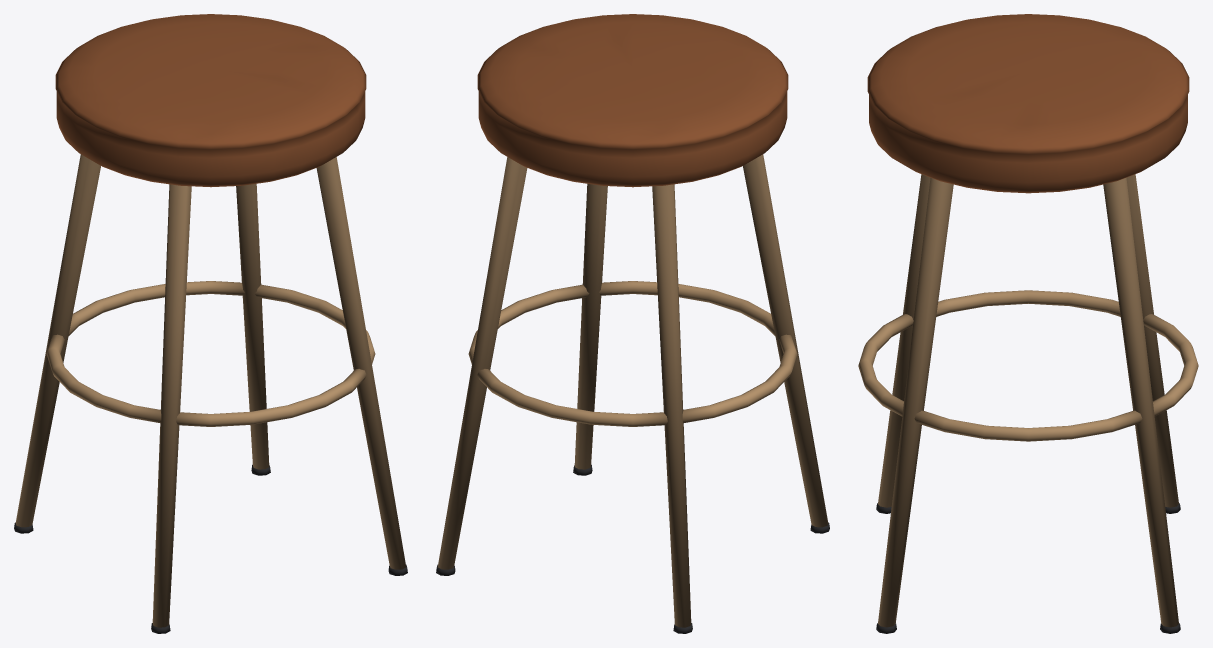
The model's file is dining_stool.gltf.
The picture shows the model from 3 angles, left to right: view 1: azimuth 30°, elevation 25°; view 2: azimuth 150°, elevation 25°; view 3: azimuth 270°, elevation 25°; orthographic projection. The views are drawn at different scales.
Parts seen in each view (by area): view 1: DiningStool_Pad, DiningStool_Legs, DiningStool_Ring, DiningStool_Glides; view 2: DiningStool_Pad, DiningStool_Legs, DiningStool_Ring, DiningStool_Glides; view 3: DiningStool_Pad, DiningStool_Legs, DiningStool_Ring, DiningStool_Glides.
Part boxes in pixels (left/top/right/bottom): DiningStool_Pad: left=55, top=14, right=366, bottom=187; DiningStool_Legs: left=15, top=154, right=406, bottom=627; DiningStool_Ring: left=46, top=281, right=375, bottom=426; DiningStool_Glides: left=14, top=464, right=407, bottom=633; DiningStool_Pad: left=477, top=14, right=788, bottom=187; DiningStool_Legs: left=437, top=154, right=828, bottom=627; DiningStool_Ring: left=468, top=281, right=797, bottom=426; DiningStool_Glides: left=436, top=464, right=829, bottom=633; DiningStool_Pad: left=867, top=14, right=1189, bottom=193; DiningStool_Legs: left=878, top=174, right=1178, bottom=627; DiningStool_Ring: left=858, top=290, right=1198, bottom=441; DiningStool_Glides: left=876, top=503, right=1180, bottom=633.
Size of the model in its own units: 0.4242 by 0.686 by 0.4242.
